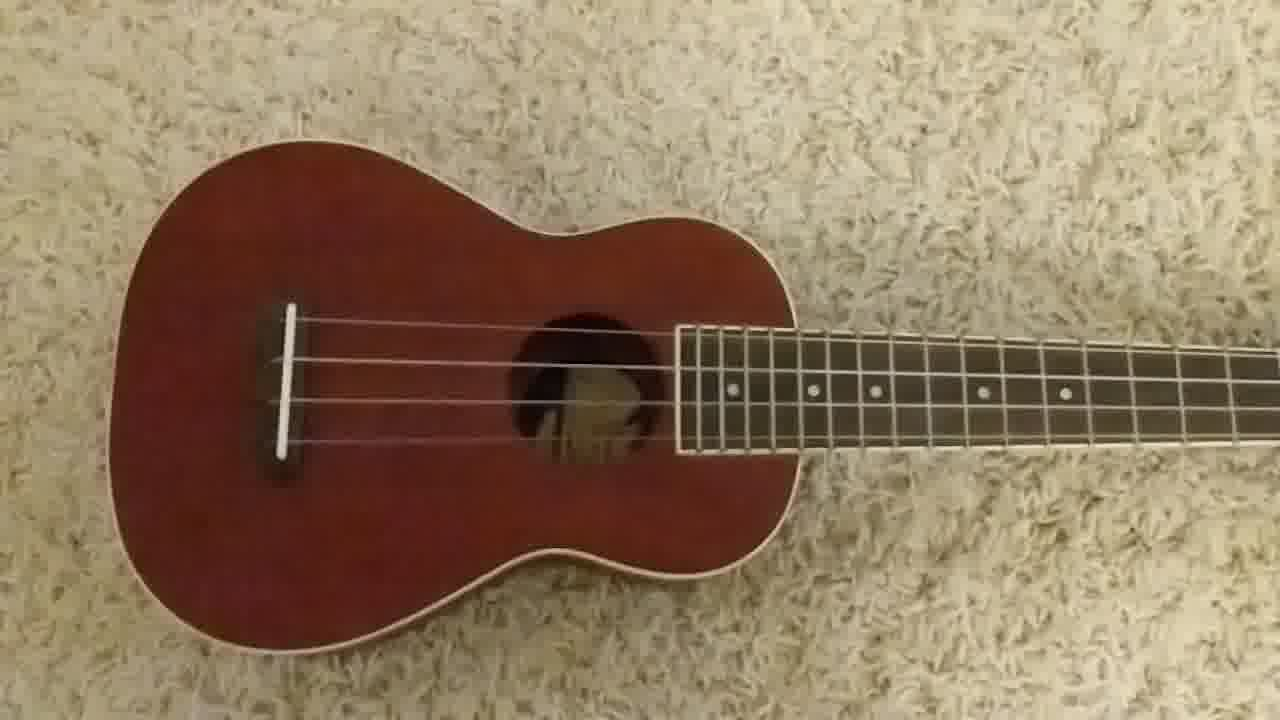Body: (110, 131, 807, 663)
Bridge: (252, 292, 319, 475)
